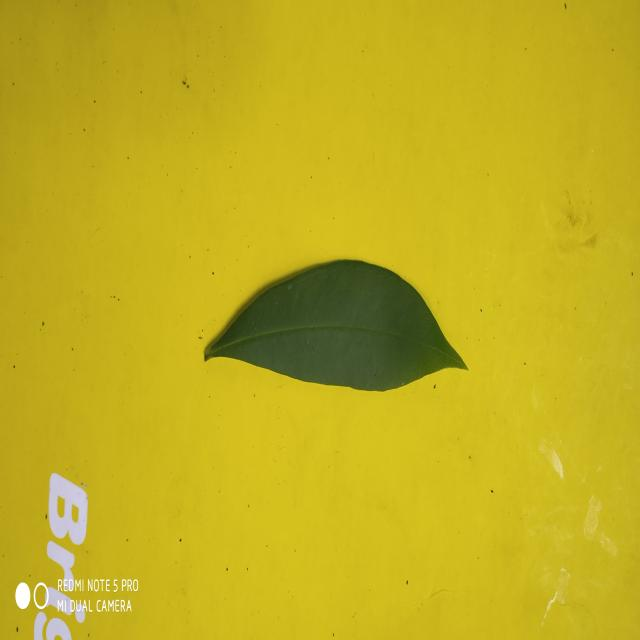nerale: (205, 260, 468, 391)
